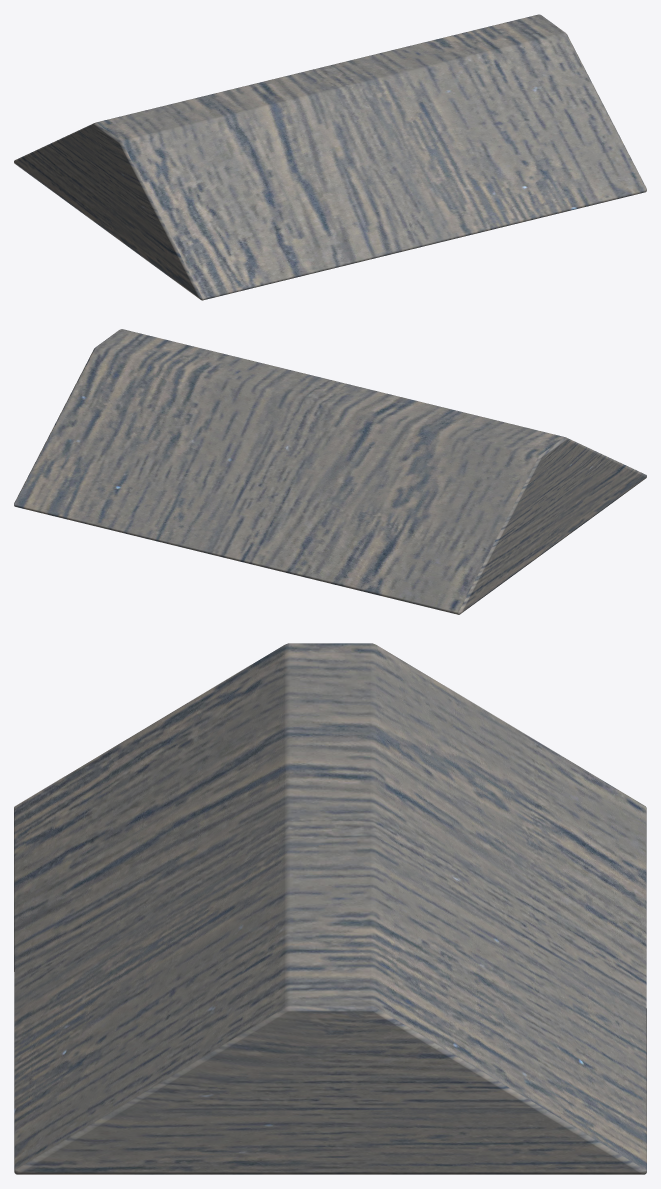
Rendered from SmallRoof.obj.
The picture shows the model from 3 angles, top to bottom: view 1: azimuth 30°, elevation 25°; view 2: azimuth 150°, elevation 25°; view 3: azimuth 270°, elevation 25°; orthographic projection. The views are drawn at different scales.
Visible parts, largest first — view 1: SmallRoof; view 2: SmallRoof; view 3: SmallRoof.
Boxes of the visible parts, x1,y1,x2,y2 form: SmallRoof: [14, 14, 646, 300]; SmallRoof: [14, 329, 646, 614]; SmallRoof: [14, 643, 646, 1174].
Size of the model in its own units: 400 by 85.53 by 292.
1 material, 1 textured.
